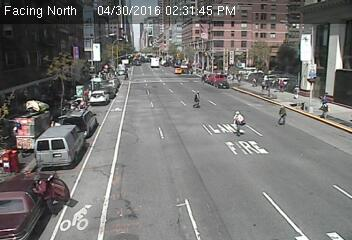neg: (183, 168, 226, 225), (31, 7, 63, 49), (119, 120, 143, 152), (276, 36, 294, 61), (199, 46, 217, 70), (75, 7, 91, 29), (205, 12, 220, 32), (187, 5, 202, 25), (250, 14, 264, 32), (91, 82, 105, 100), (107, 15, 120, 33), (278, 9, 291, 26), (143, 63, 154, 78), (129, 6, 136, 15), (154, 6, 159, 12)
